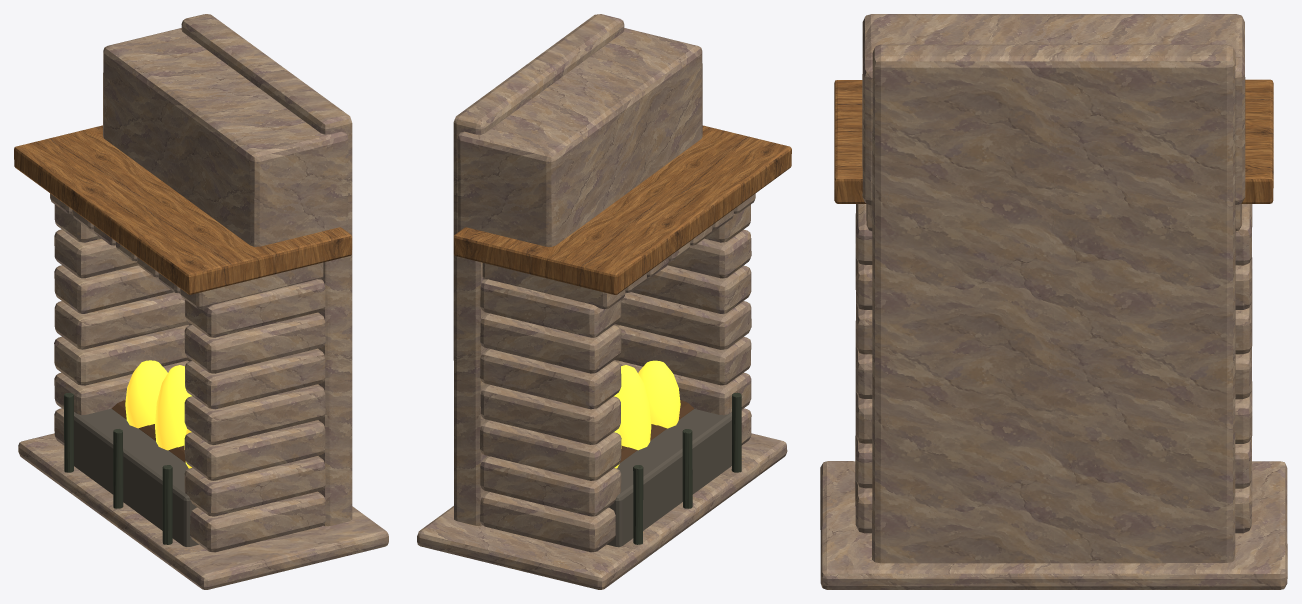
Rendered from SM_HH_Q2_Fireplace.fbx.
The picture shows the model from 3 angles, left to right: view 1: azimuth 30°, elevation 25°; view 2: azimuth 150°, elevation 25°; view 3: azimuth 270°, elevation 25°; orthographic projection. The views are drawn at different scales.
Parts seen in each view (by area): view 1: HH_Q2_Fireplace; view 2: HH_Q2_Fireplace; view 3: HH_Q2_Fireplace.
Part boxes in pixels (left/top/right/bottom): HH_Q2_Fireplace: left=14, top=14, right=388, bottom=589; HH_Q2_Fireplace: left=417, top=14, right=791, bottom=589; HH_Q2_Fireplace: left=820, top=14, right=1287, bottom=589.
Size of the model in its own units: 1.9 by 1.15 by 2.35.
